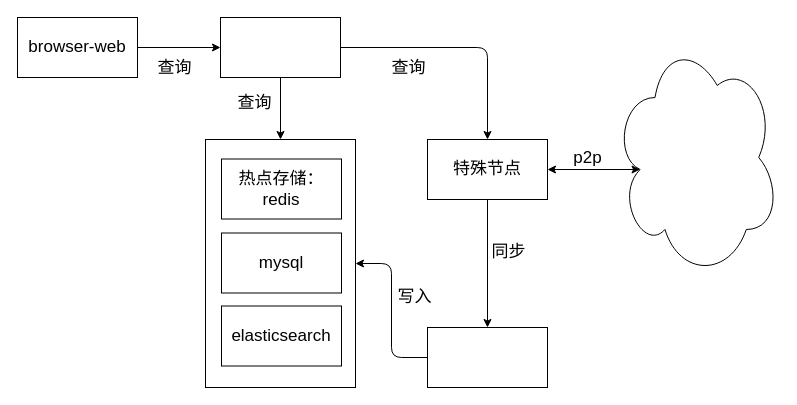
This 797x405 diagram has some shape labels left out. Here are the shapes that lost their labels. From the top down, the centre of each, then its label:
At pixel 280 47: "服务 browser-api".
At pixel 696 157: "alaya or platon blockchain".
At pixel 487 357: "服务 browser-agent".
